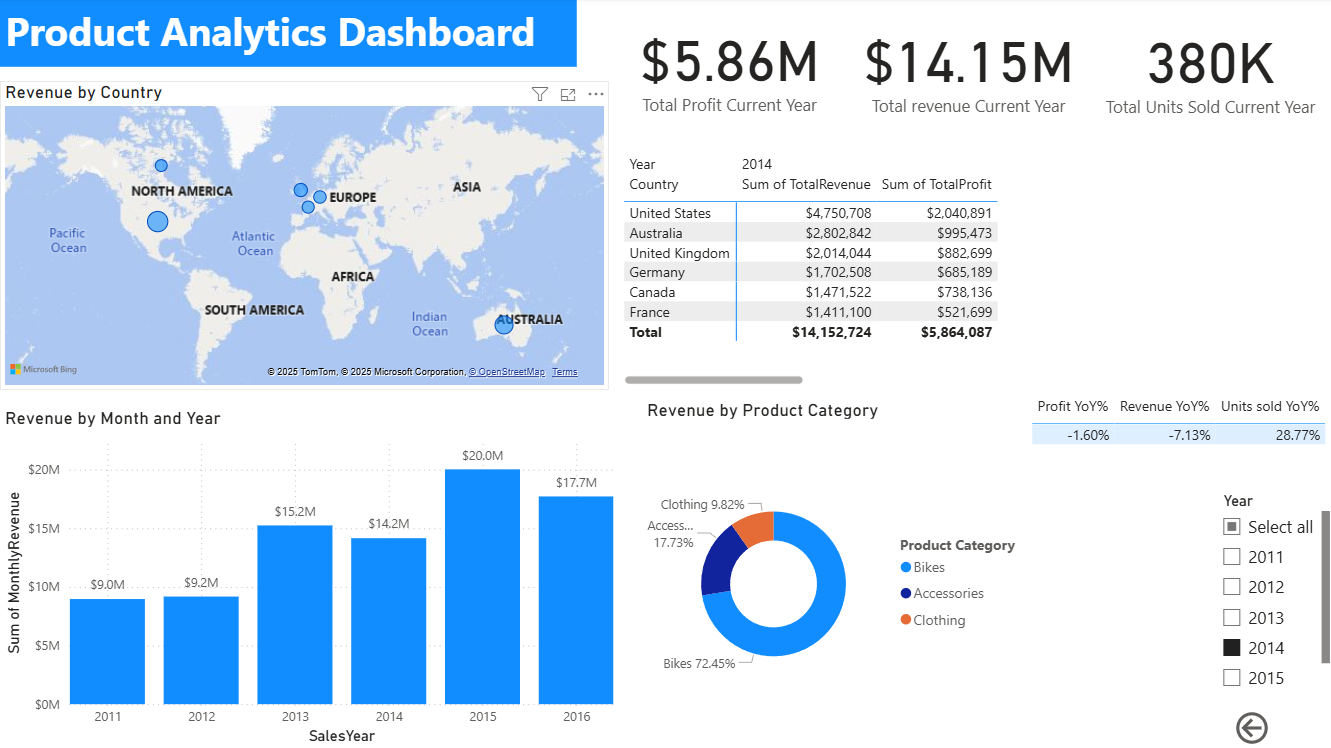

What the dashboard file says about the page in this screenshot:
{"tool":"powerbi","page":{"name":"DashBoard","canvas":[1280,720],"ordinal":0},"visuals":[{"type":"slicer","fields":{"Values":["Query1.Year"]},"box":[1160.1,468.9,119.9,200.4],"z":0},{"type":"card","fields":{"Values":["Query1.total Profit Current Year"]},"box":[593.5,1,211.9,126.6],"z":1000},{"type":"card","fields":{"Values":["Query1.Total revenue Current Year"]},"box":[822.7,2.9,211.9,124.6],"z":2000},{"type":"card","fields":{"Values":["Query1.Total Units Sold Current Year"]},"box":[1054.7,1.9,211.9,128.5],"z":3000},{"type":"tableEx","fields":{"Values":["Query1.Profit YoY%","Query1.Revenue YoY%","Query1.Units sold YoY%"]},"box":[983.7,375.9,296.3,79.6],"z":4000},{"type":"clusteredColumnChart","title":"Revenue by Month and Year ","fields":{"Y":["Sum(Query4.MonthlyRevenue)"],"Category":["Query4.SalesYear"]},"box":[0,392.1,593.5,327.9],"z":5000},{"type":"map","title":"Revenue by Country","fields":{"Category":["Query2.Country"],"Size":["Avg(Query2.TotalRevenue)"]},"box":[0,80,584,296],"z":6000},{"type":"pivotTable","fields":{"Rows":["Query5.Country"],"Columns":["Query5.Year"],"Values":["Sum(Query5.TotalRevenue)","Sum(Query5.TotalProfit)"]},"box":[593.5,143.8,686.5,232],"z":7000},{"type":"donutChart","title":"Revenue by Product Category","fields":{"Category":["Query6.ProductCategory"],"Y":["Avg(Query6.TotalRevenue)"]},"box":[615.6,384.5,368.2,335.6],"z":8000},{"type":"textbox","box":[0,1,553.2,65.2],"z":9000},{"type":"actionButton","box":[1180.3,679.8,99.7,40.3],"z":10000}]}

Visuals, with their boxes in screenshot pixels (x1, y1, x2, y2), scaled from the page's 1280x720 canvas onto the 1331x748 screenshot:
slicer - Query1.Year: (left=1206, top=487, right=1330, bottom=695)
card - Query1.total Profit Current Year: (left=617, top=1, right=837, bottom=133)
card - Query1.Total revenue Current Year: (left=855, top=3, right=1076, bottom=132)
card - Query1.Total Units Sold Current Year: (left=1097, top=2, right=1317, bottom=135)
tableEx - Query1.Profit YoY% x Query1.Revenue YoY%: (left=1023, top=391, right=1330, bottom=473)
"Revenue by Month and Year " clusteredColumnChart: (left=0, top=407, right=617, bottom=747)
"Revenue by Country" map: (left=0, top=83, right=607, bottom=391)
pivotTable - Query5.Country x Query5.Year: (left=617, top=149, right=1330, bottom=390)
"Revenue by Product Category" donutChart: (left=640, top=399, right=1023, bottom=747)
textbox: (left=0, top=1, right=575, bottom=69)
actionButton: (left=1227, top=706, right=1330, bottom=747)
